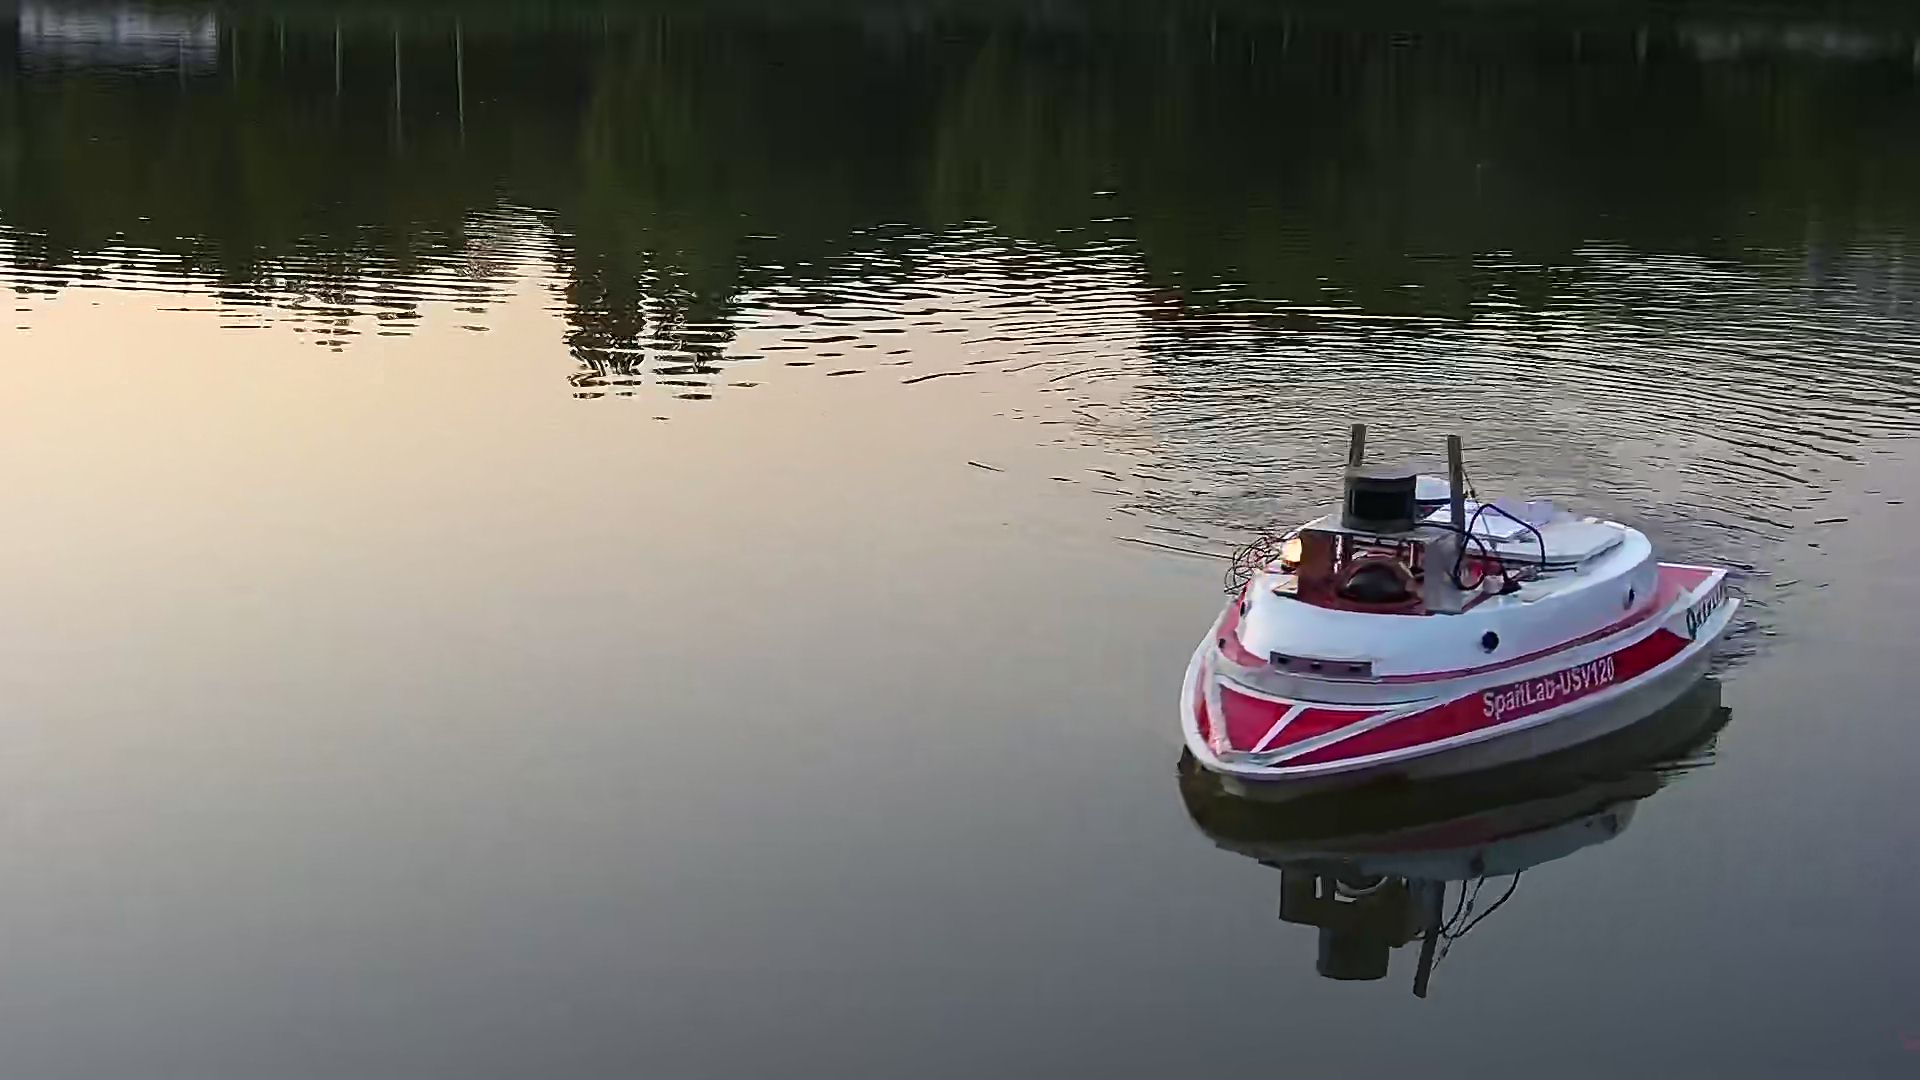boat: (1174, 419, 1743, 791)
